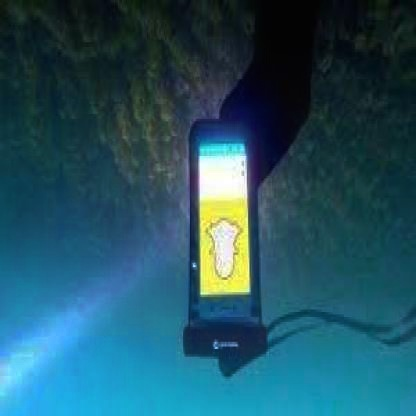cellphone: (193, 121, 259, 332)
